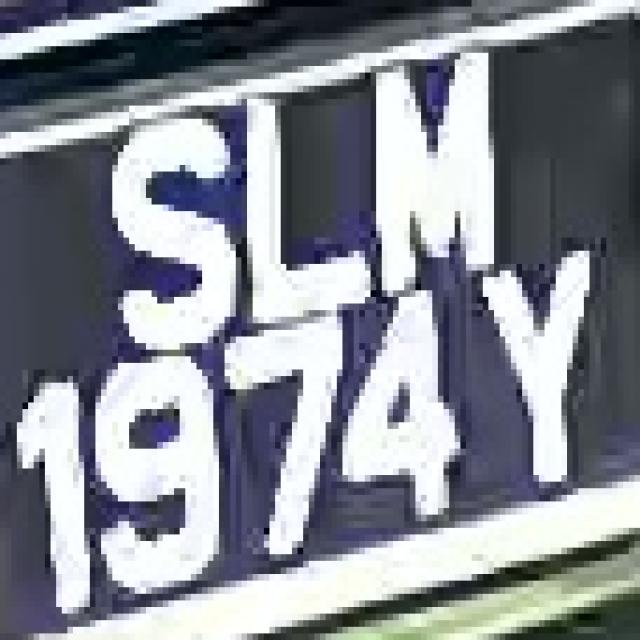1: (11, 349, 101, 640)
4: (331, 303, 472, 528)
7: (208, 310, 359, 587)
9: (79, 356, 230, 620)
L: (236, 59, 376, 330)
M: (354, 27, 505, 304)
S: (90, 86, 247, 336)
Y: (472, 244, 606, 488)
